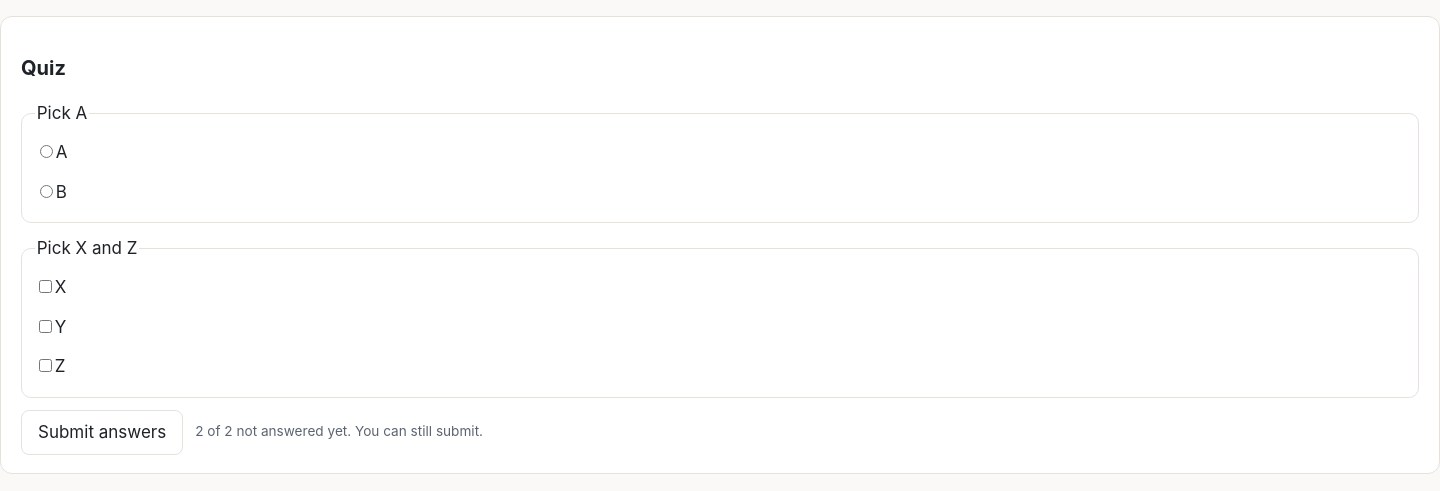
Test: QuestionSet › says how many questions are still unanswered, and stops saying it once they are
The image size is (1440, 491).
Expected: the text "2 of 2 not answered yet. You can still submit." is shown, [195, 421, 483, 443]
Click the radio button labelled "A". click: click(46, 152)
box: [40, 145, 53, 158]
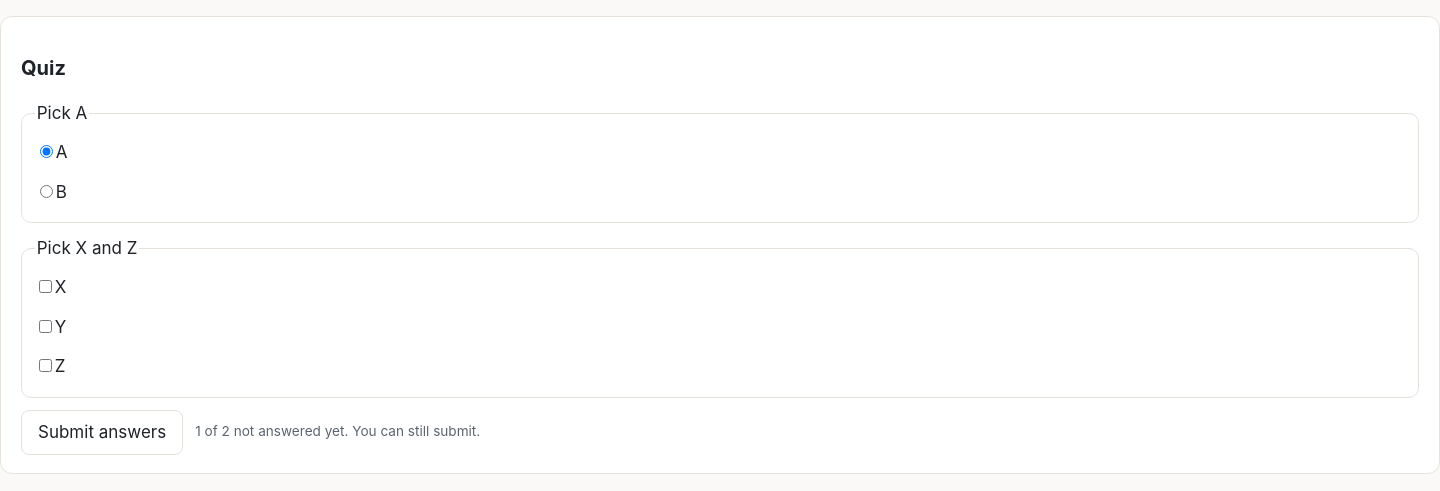
Result: the text "1 of 2 not answered yet. You can still submit." is shown at [195, 421, 480, 443]
Click the checkbox labelled "X". click: click(45, 287)
box: [39, 280, 52, 293]
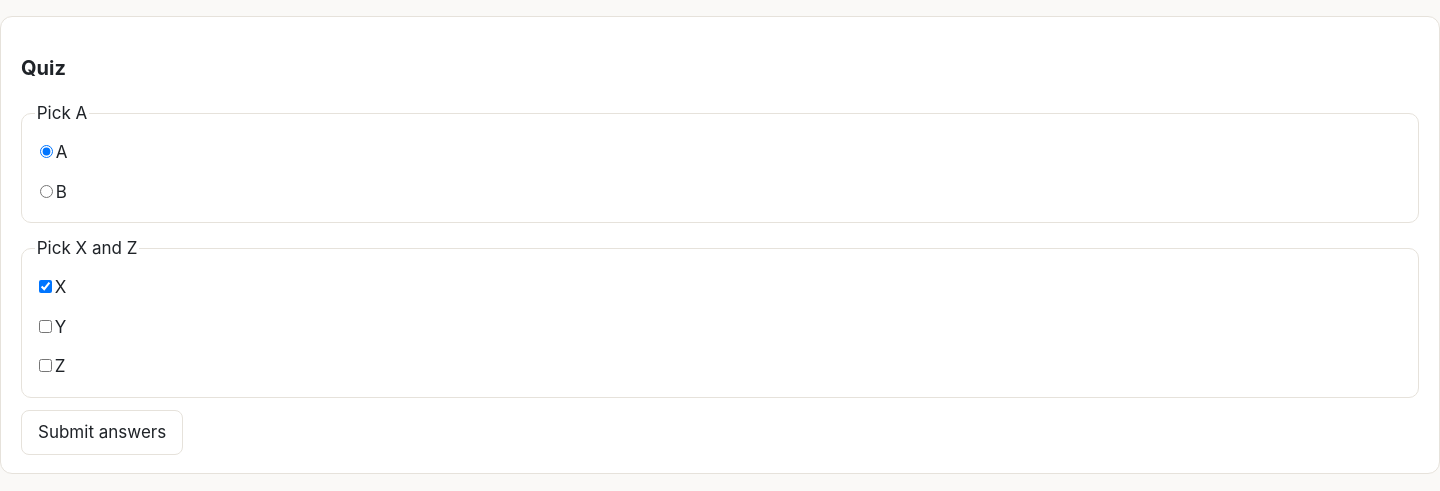
Result: the text "not answered yet" is gone
